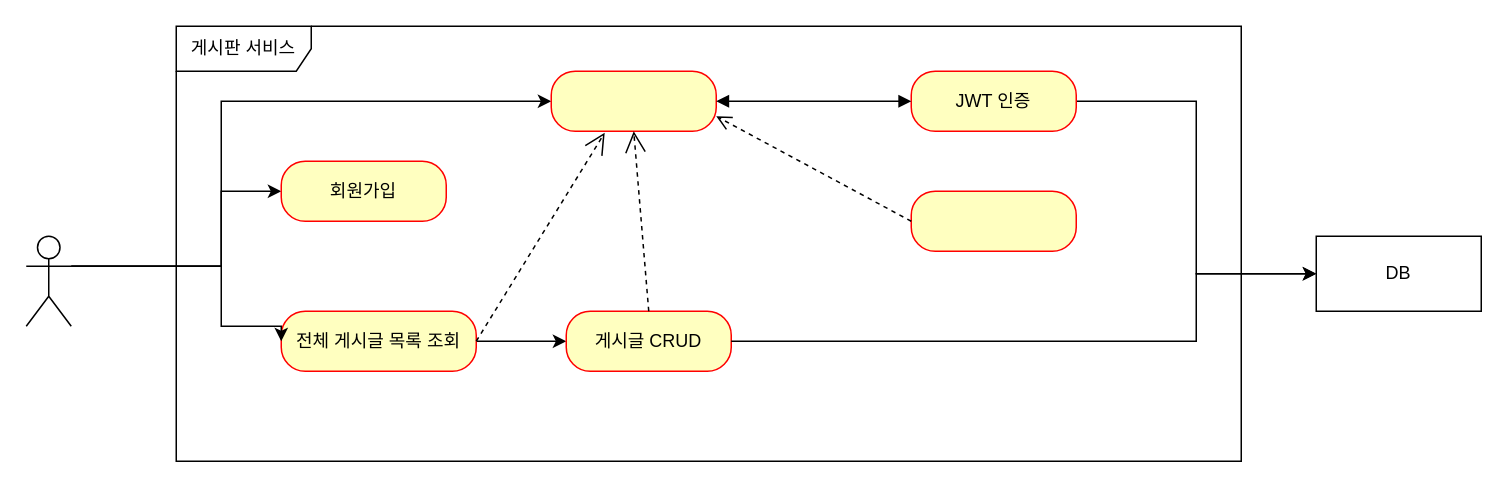
Some shapes in this 1508 by 488 pixel diagram are drawn without their labels. The box of each missing label's shape, as (x1, y1, x2, y2) in pixels:
Actor: (25, 235, 71, 326)
로그인: (550, 70, 716, 131)
로그인 실패: (910, 190, 1076, 251)
